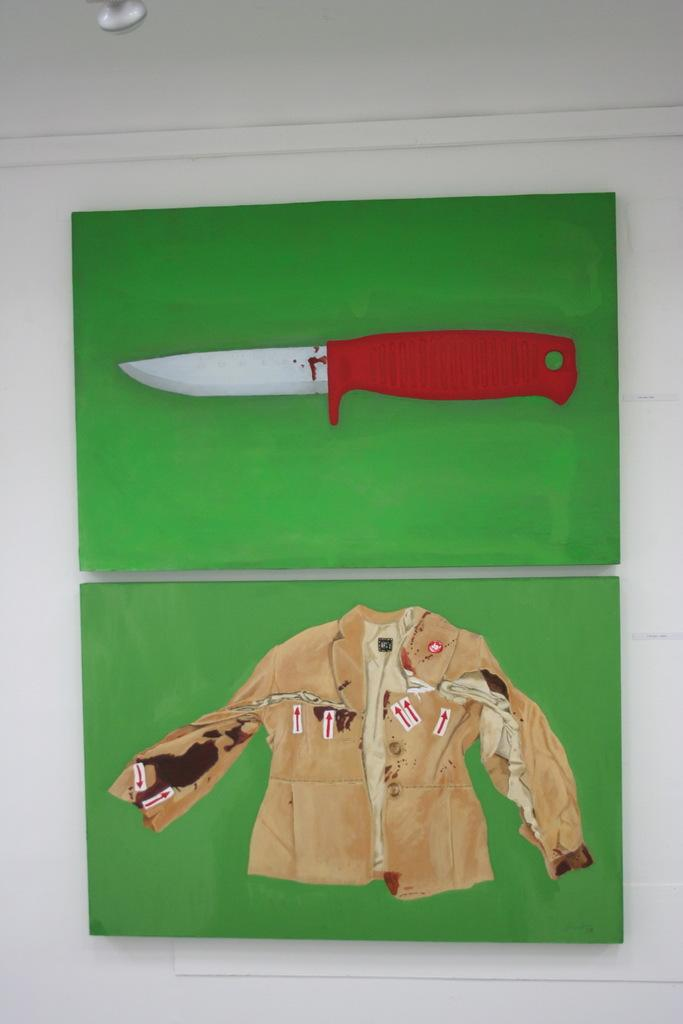Knife: (117, 330, 579, 429)
